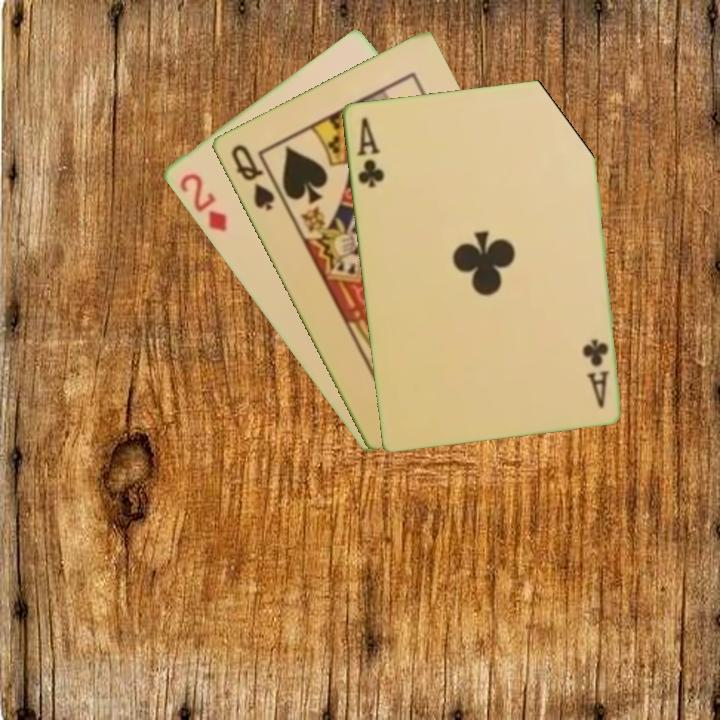2d: (175, 169, 230, 234)
Ac: (352, 113, 387, 190), (580, 335, 611, 411)
Qs: (227, 140, 277, 214)
